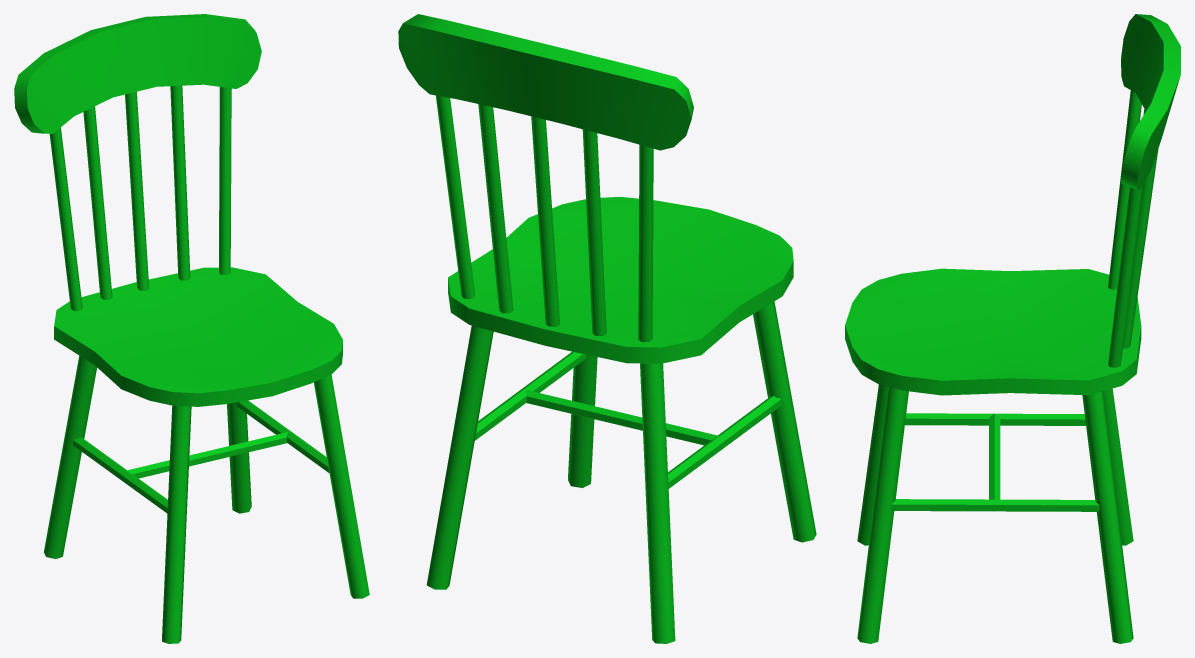
Rendered from Chair_03.FBX.
3 views of the same model, side by side, from view 1: azimuth 30°, elevation 25°; view 2: azimuth 150°, elevation 25°; view 3: azimuth 270°, elevation 25° (orthographic). The views are drawn at different scales.
Visible parts, largest first — view 1: Chair_LP; view 2: Chair_LP; view 3: Chair_LP.
Boxes of the visible parts, x1,y1,x2,y2 form: Chair_LP: (14,14,369,643); Chair_LP: (398,14,816,643); Chair_LP: (845,14,1180,643).
Size of the model in its own units: 53.38 by 103 by 58.69.
